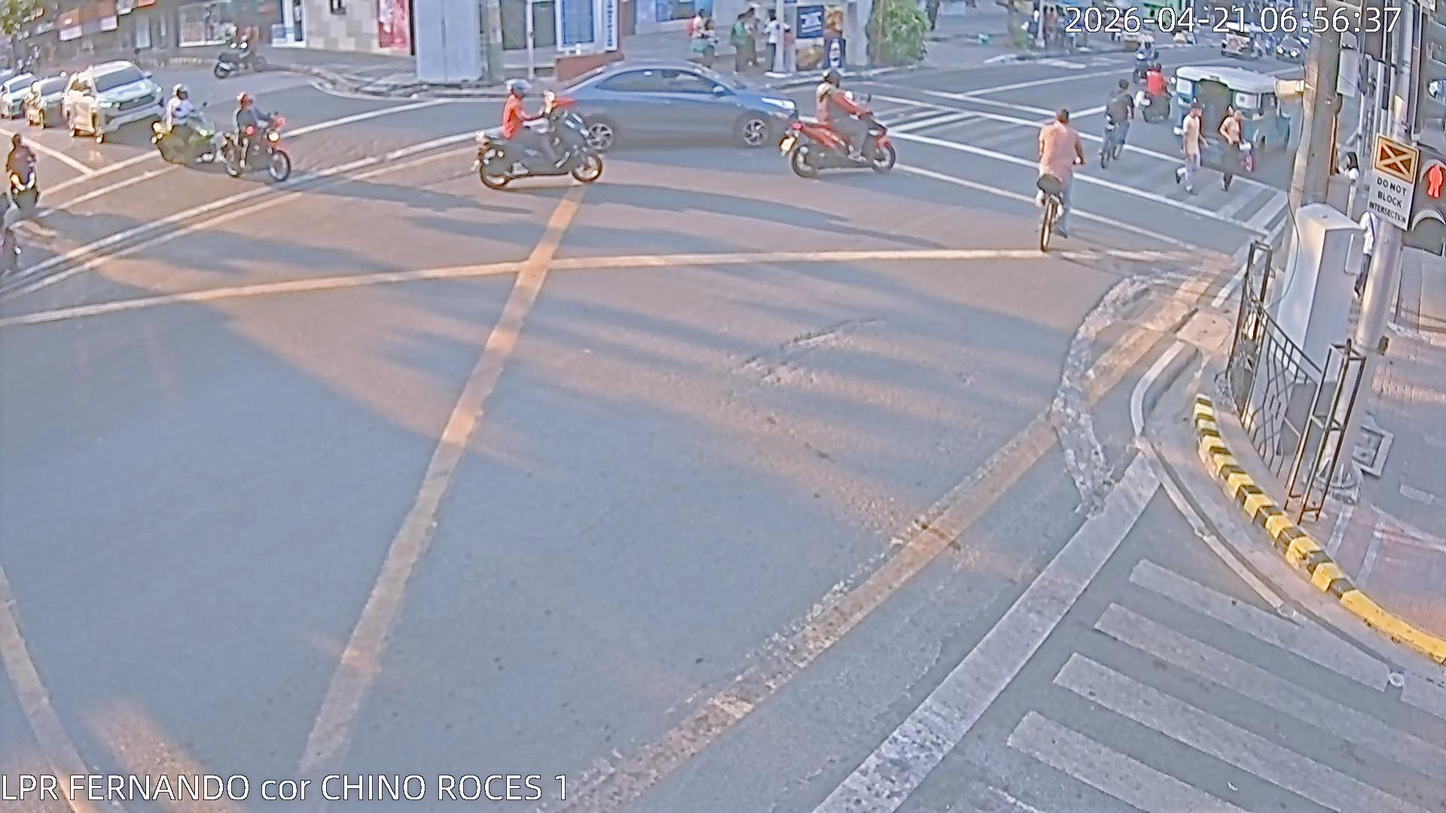Car: (547, 55, 798, 187), (59, 62, 170, 143), (35, 79, 66, 127), (3, 77, 34, 116)
Motor: (465, 74, 629, 212), (782, 68, 894, 198), (217, 94, 291, 194), (0, 142, 74, 241), (161, 88, 205, 171), (1136, 50, 1175, 129)
